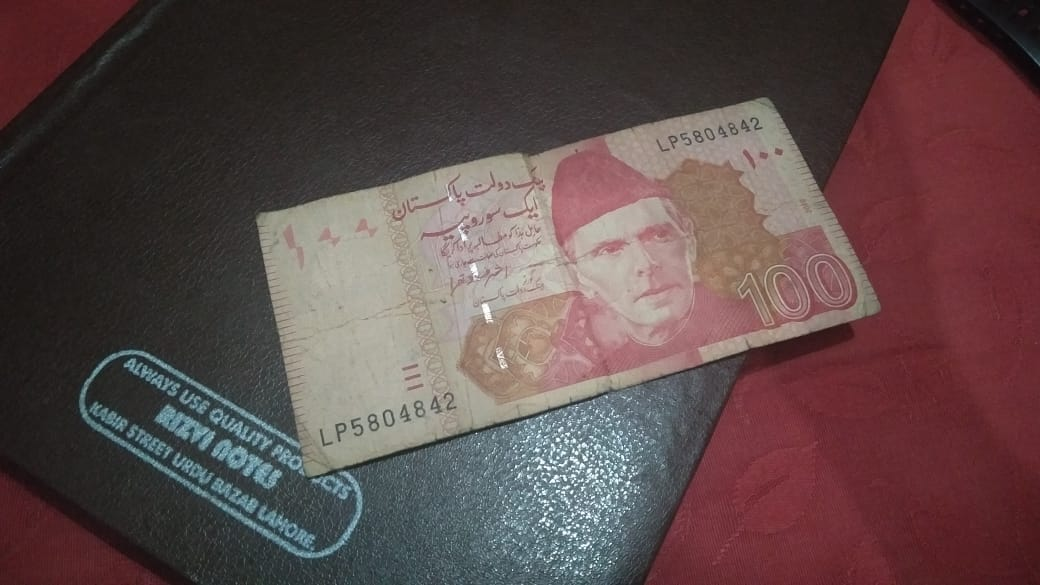100 rupee: (248, 93, 896, 481)
